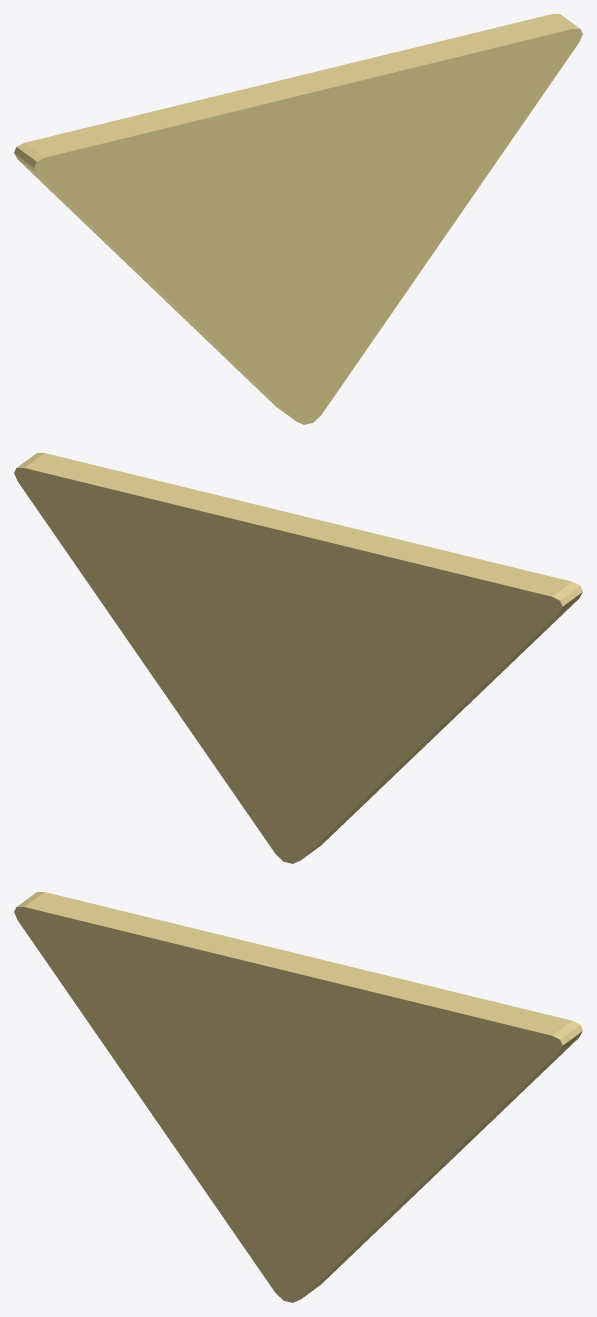
File: arrowDown.fbx
3 views of the same model, one above another, from view 1: azimuth 30°, elevation 25°; view 2: azimuth 150°, elevation 25°; view 3: azimuth 330°, elevation 25° (orthographic).
Visible parts, largest first — view 1: Cube.028; view 2: Cube.028; view 3: Cube.028.
Boxes of the visible parts, <box> form: Cube.028: <box>14,14,582,424</box>; Cube.028: <box>14,453,582,863</box>; Cube.028: <box>14,892,582,1302</box>.
Bounding box in the file's own units: 194 × 112 × 12.5.
